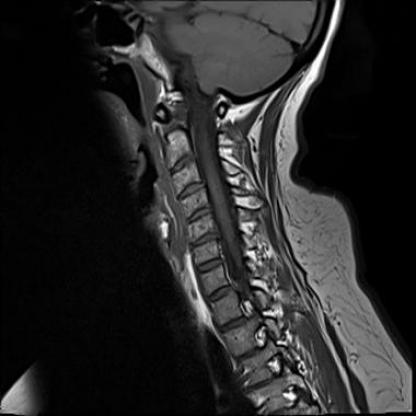Disc Bulgerotation: (174, 183, 207, 198), (195, 259, 226, 274), (185, 208, 214, 222), (189, 235, 221, 247)
Disc Protrusionrotation: (195, 258, 226, 273)
Osteophytesrotation: (175, 183, 207, 198), (185, 208, 214, 222), (189, 234, 221, 246)
